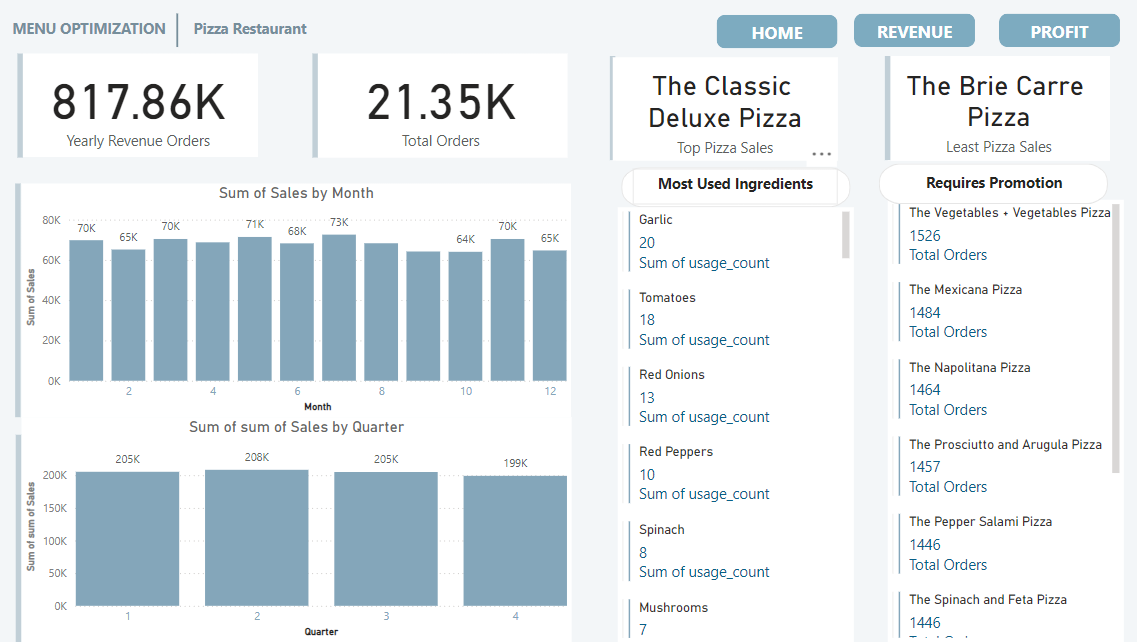

The dashboard page shown, as its layout file describes it:
{"tool":"powerbi","page":{"name":"HOME","canvas":[1280,720],"ordinal":0},"visuals":[{"type":"textbox","box":[15.1,30.2,190.7,37],"z":0},{"type":"shape","box":[180,30,42.9,37.1],"z":1000},{"type":"textbox","box":[214.3,30,151.4,44.3],"z":2000},{"type":"card","fields":{"Values":["Sum(yearly_orders.sum of sales)"]},"box":[27.4,74.1,262.1,113.9],"z":3000},{"type":"shape","box":[15.7,74.3,27.1,114.3],"z":4000},{"type":"card","fields":{"Values":["Sum(count of orders.Revenue)"]},"box":[351.4,74.3,278.6,114.3],"z":5000},{"type":"shape","box":[338.6,74.3,27.1,114.3],"z":6000},{"type":"shape","box":[665.7,77.1,27.1,114.3],"z":7000},{"type":"card","fields":{"Values":["Min(least pizza.pizzaname)"]},"box":[981.1,76.8,244.3,115.3],"z":8000},{"type":"shape","box":[967.1,77.1,27.1,114.3],"z":9000},{"type":"pivotTable","fields":{"Rows":["total_daily_orders_vw.day"],"Values":["Sum(total_daily_orders_vw.total daily orders)","Sum(total_daily_orders_vw.Revenue)"]},"box":[26.1,248.4,419.9,447.3],"z":10000},{"type":"shape","box":[27.4,203.1,424,45.3],"z":11000},{"type":"textbox","box":[127.6,207.2,225,41.2],"z":12000},{"type":"shape","box":[8.6,248.6,35.7,447.1],"z":13000},{"type":"columnChart","title":"Peak Hours Total Orders by Hours","fields":{"Category":["full_orders_details_vw.hour"],"Y":["Sum(full_orders_details_vw.quantity)"]},"box":[477.5,223.7,782.2,251.1],"z":14000},{"type":"shape","box":[462.4,223.7,28.8,251.1],"z":15000},{"type":"pieChart","title":"Top Pizzas By Orders","fields":{"Category":["pizza_types.name"],"Y":["Sum(order_details.quantity)"]},"box":[478.9,484.4,780.8,226.4],"z":16000},{"type":"shape","box":[465.2,484.4,23.3,236],"z":17000},{"type":"card","fields":{"Values":["Min(top pizza.pizzaname)"]},"box":[679.2,78.2,247,113.9],"z":18000},{"type":"actionButton","box":[793.1,31.6,133.1,37],"z":19000},{"type":"actionButton","box":[944.1,30.2,133.1,37],"z":20000},{"type":"actionButton","box":[1103.3,30.2,133.1,37],"z":21000}]}

Visuals, with their boxes in screenshot pixels (x1, y1, x2, y2), scaled from the page's 1280x720 canvas onto the 1137x642 screenshot:
textbox: rect(13, 27, 183, 60)
shape: rect(160, 27, 198, 60)
textbox: rect(190, 27, 325, 66)
card - Sum(yearly_orders.sum of sales): rect(24, 66, 257, 168)
shape: rect(14, 66, 38, 168)
card - Sum(count of orders.Revenue): rect(312, 66, 560, 168)
shape: rect(301, 66, 325, 168)
shape: rect(591, 69, 615, 171)
card - Min(least pizza.pizzaname): rect(871, 68, 1088, 171)
shape: rect(859, 69, 883, 171)
pivotTable - total_daily_orders_vw.day x Sum(total_daily_orders_vw.total daily orders): rect(23, 221, 396, 620)
shape: rect(24, 181, 401, 221)
textbox: rect(113, 185, 313, 221)
shape: rect(8, 222, 39, 620)
"Peak Hours Total Orders by Hours" columnChart: rect(424, 199, 1119, 423)
shape: rect(411, 199, 436, 423)
"Top Pizzas By Orders" pieChart: rect(425, 432, 1119, 634)
shape: rect(413, 432, 434, 641)
card - Min(top pizza.pizzaname): rect(603, 70, 823, 171)
actionButton: rect(704, 28, 823, 61)
actionButton: rect(839, 27, 957, 60)
actionButton: rect(980, 27, 1098, 60)
